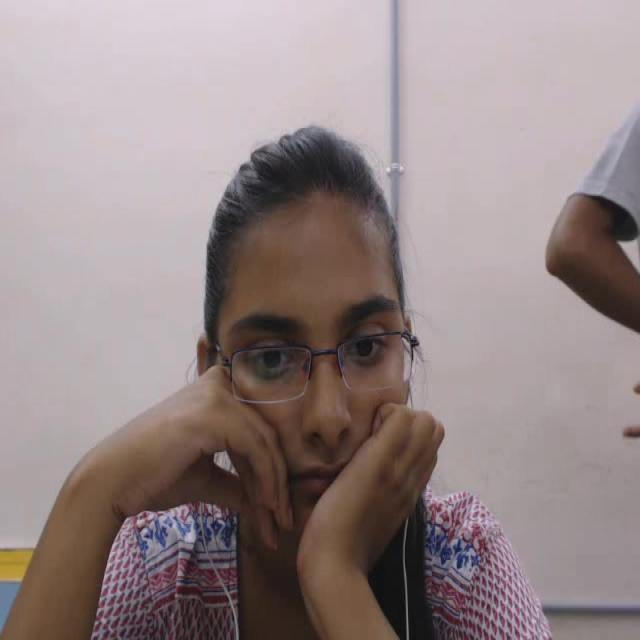Bored: (183, 112, 433, 548)
